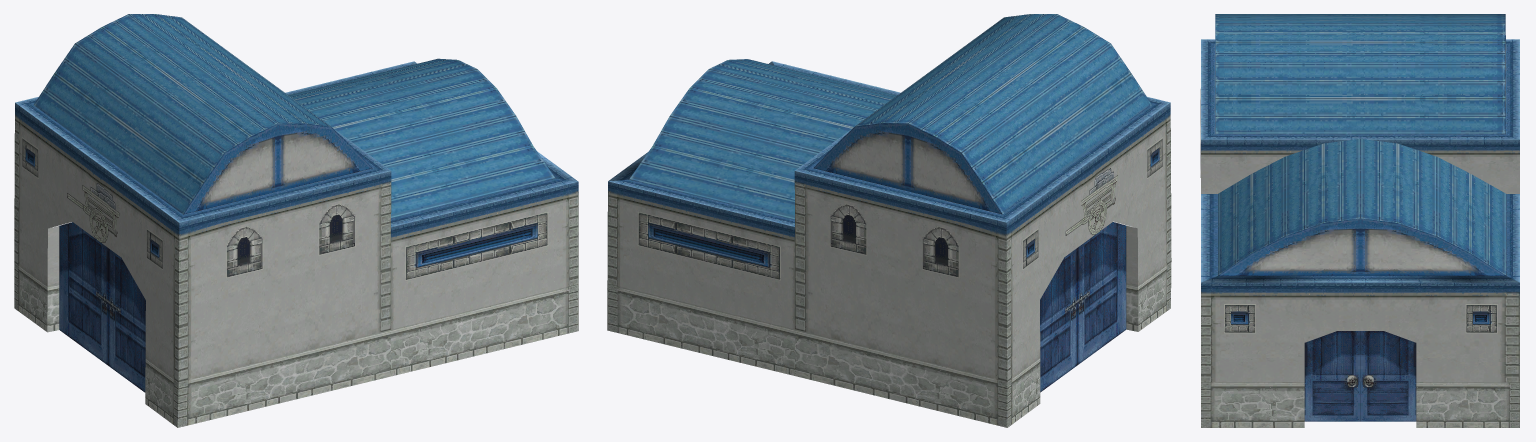
3 renders of one model, left to right at view 1: azimuth 30°, elevation 25°; view 2: azimuth 150°, elevation 25°; view 3: azimuth 270°, elevation 25°, orthographic. The views are drawn at different scales.
Parts seen in each view (by area): view 1: geom_node_0, geom_node_1; view 2: geom_node_0, geom_node_1; view 3: geom_node_1, geom_node_0.
Boxes of the visible parts, x1,y1,x2,y2 form: geom_node_0: (14,14,391,427); geom_node_1: (285,58,578,376); geom_node_0: (794,14,1171,427); geom_node_1: (607,59,900,375); geom_node_1: (1201,138,1519,427); geom_node_0: (1200,14,1519,193).
Size of the model in its own units: 8.25 by 5.33 by 5.86.
Materials: 4 (4 with a texture image).
